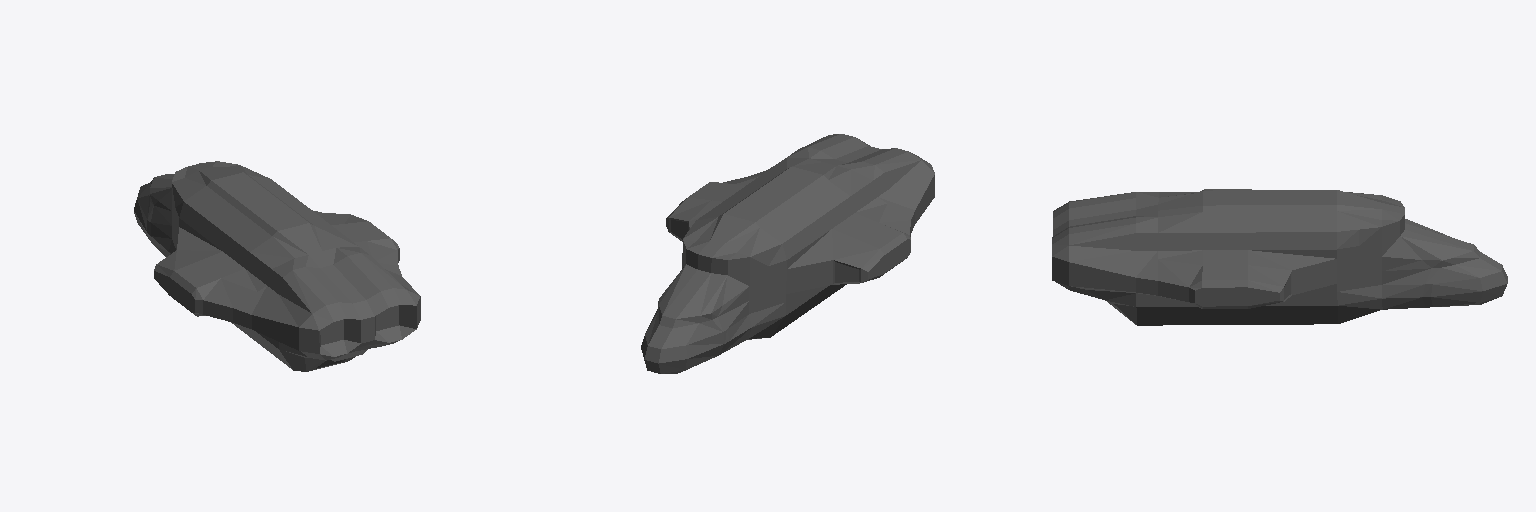
Rendered from wescott.obj.
3 renders of one model, left to right at view 1: azimuth 30°, elevation 25°; view 2: azimuth 150°, elevation 25°; view 3: azimuth 270°, elevation 25°, orthographic.
Parts seen in each view (by area): view 1: Mesh_Mesh_Mesh_Cube.001; view 2: Mesh_Mesh_Mesh_Cube.001; view 3: Mesh_Mesh_Mesh_Cube.001.
Part boxes in pixels (bbox=[...]): Mesh_Mesh_Mesh_Cube.001: bbox=[134, 161, 420, 371]; Mesh_Mesh_Mesh_Cube.001: bbox=[641, 134, 934, 373]; Mesh_Mesh_Mesh_Cube.001: bbox=[1052, 189, 1507, 325].
Size of the model in its own units: 4.22 by 2.33 by 8.16.